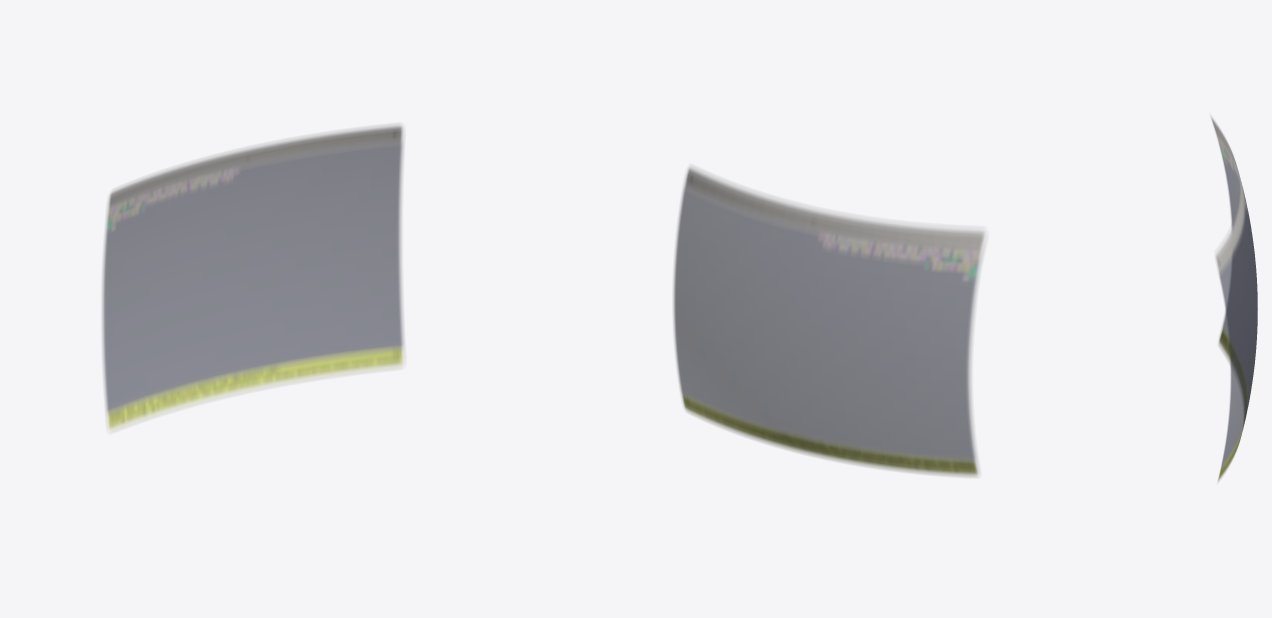
File: testsphere.glb
3 renders of one model, left to right at view 1: azimuth 30°, elevation 25°; view 2: azimuth 150°, elevation 25°; view 3: azimuth 270°, elevation 25°, orthographic. The views are drawn at different scales.
Visible parts, largest first — view 1: Sphere; view 2: Sphere; view 3: Sphere.
Boxes of the visible parts, x1,y1,x2,y2 form: Sphere: (102, 124, 404, 432); Sphere: (673, 166, 986, 477); Sphere: (1210, 115, 1257, 481).
Bounding box in the file's own units: 1.16 × 1.17 × 0.1897.
1 material, 1 textured.
